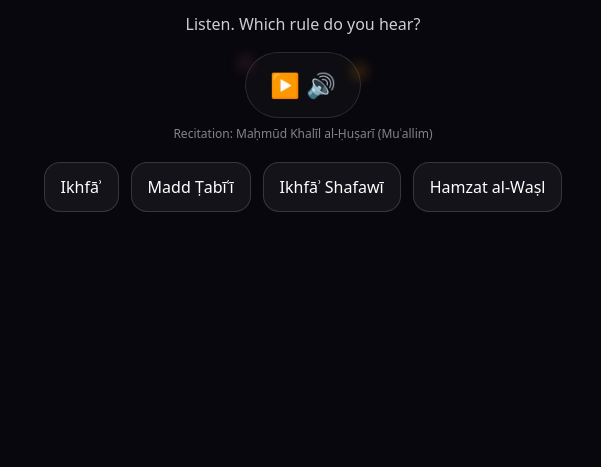
ListenIdentify › reveals the text after a wrong answer too — that is the teaching moment
The width and height of the screenshot is (601, 467).
Click the button "Ikhfāʾ Shafawī". click: (332,187)
box: x1=263 y1=162 x2=401 y2=212
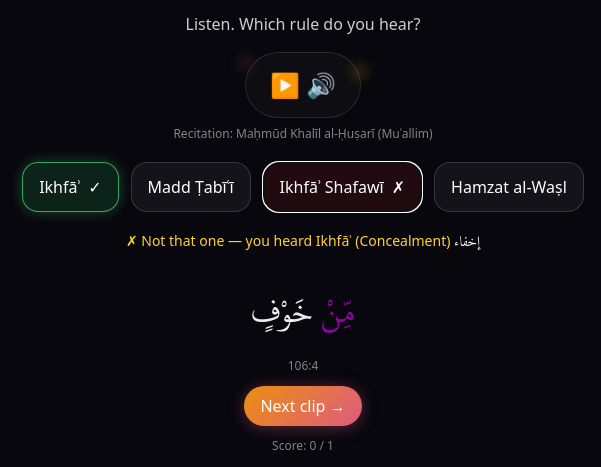
Now the picture labelled "مِّنْ خَوْفٍ" is shown, box x1=251 y1=280 x2=355 y2=343
